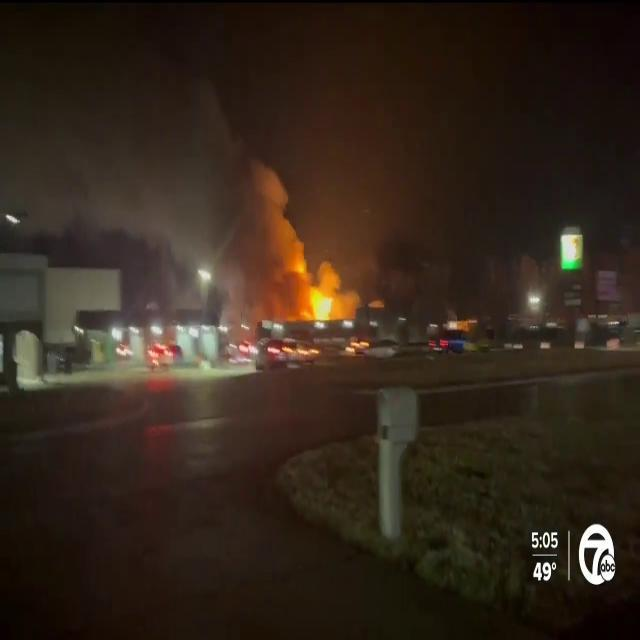Fire: (302, 284, 346, 322)
Smoke: (1, 2, 294, 306)
